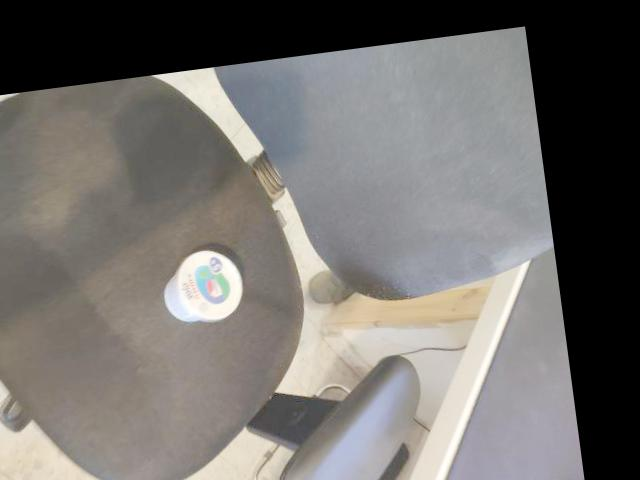cotage: (140, 232, 251, 332)
